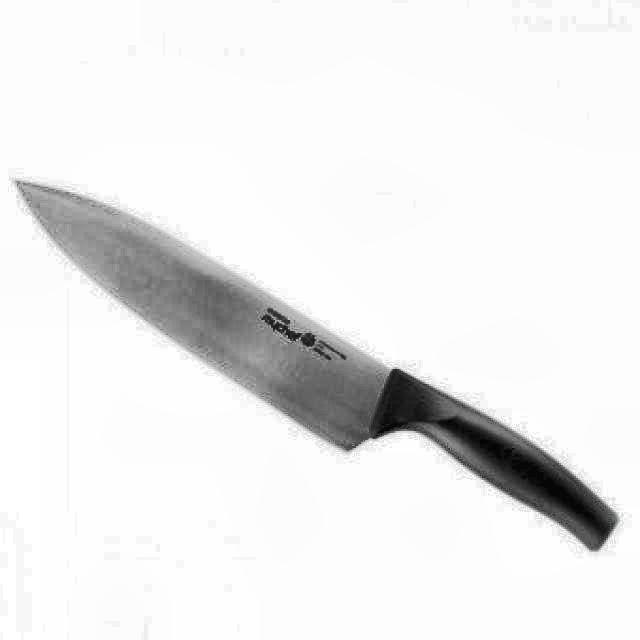knife: (15, 180, 618, 560)
